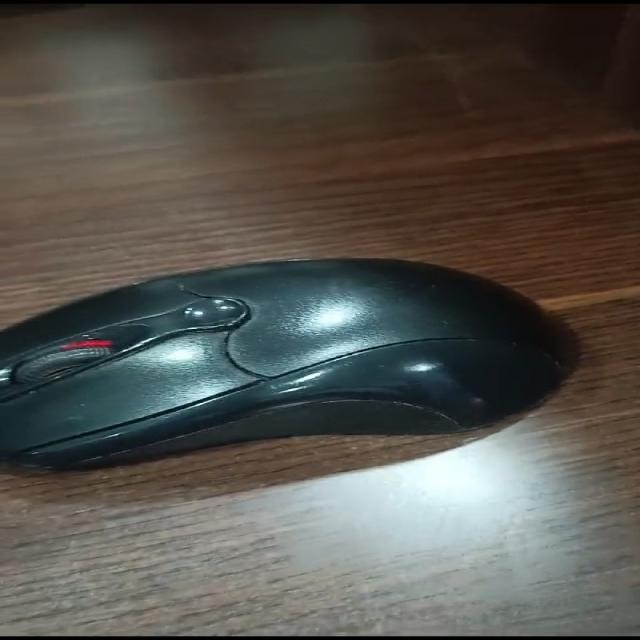Mouse: (0, 220, 598, 526)
